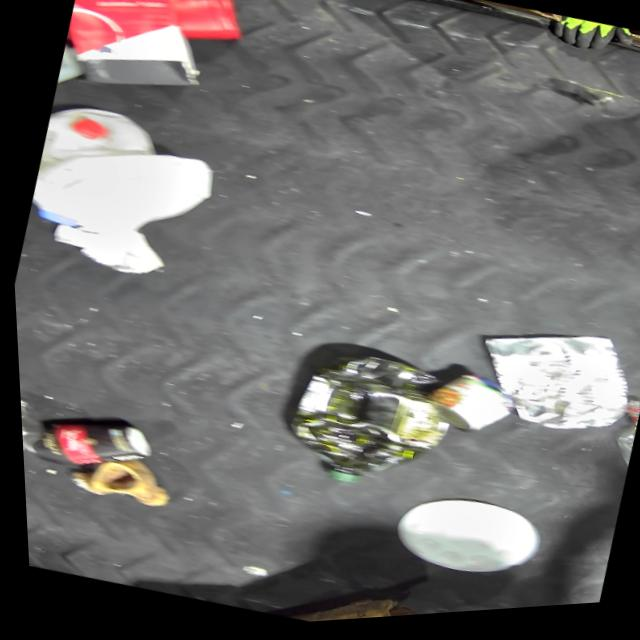can: (457, 311, 640, 458), (416, 369, 517, 450)
milk_jug: (22, 122, 220, 264), (30, 93, 166, 211)
non_white_jug: (266, 336, 461, 514)
